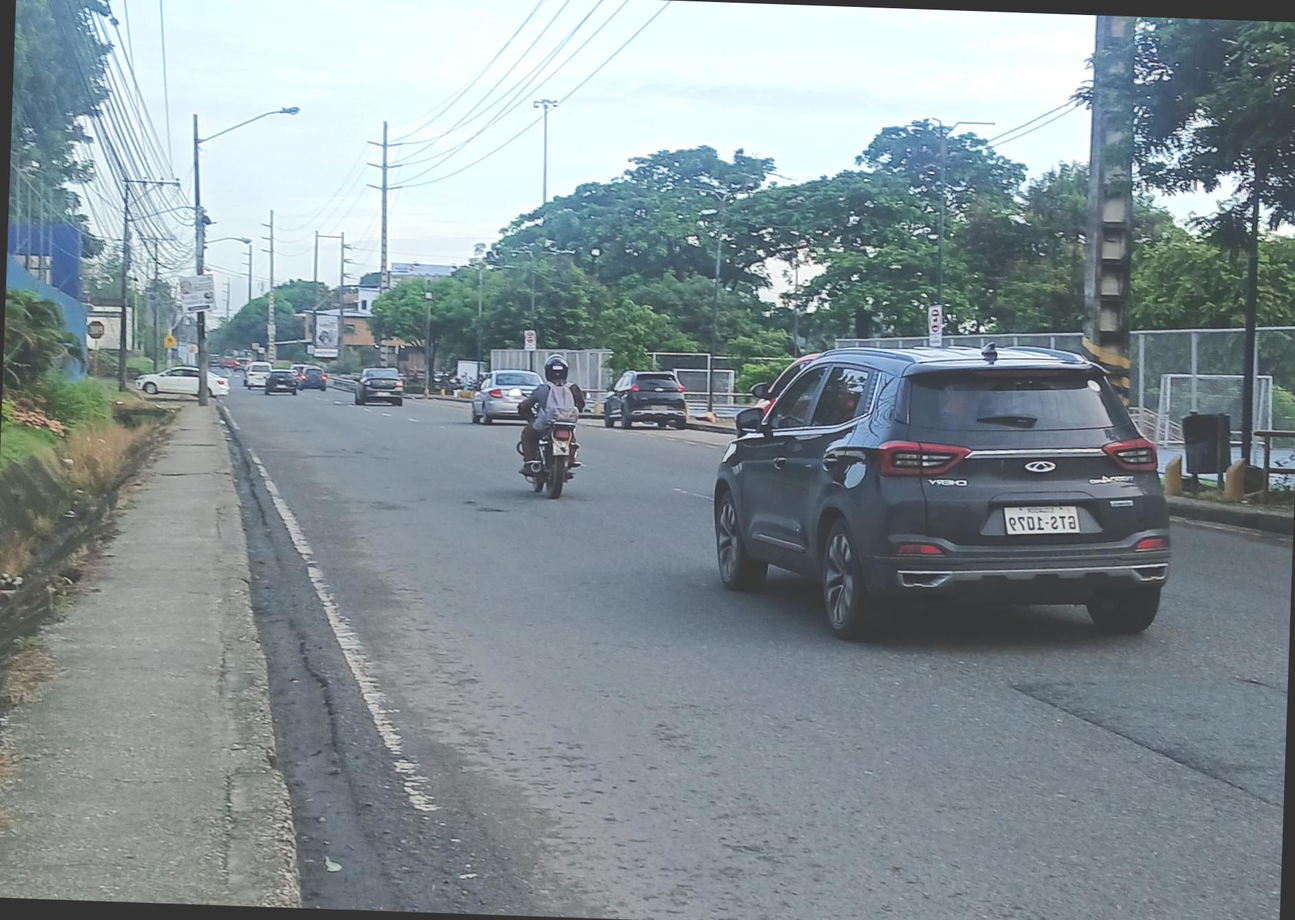license_plate: (1004, 505, 1080, 535), (551, 439, 568, 455)
